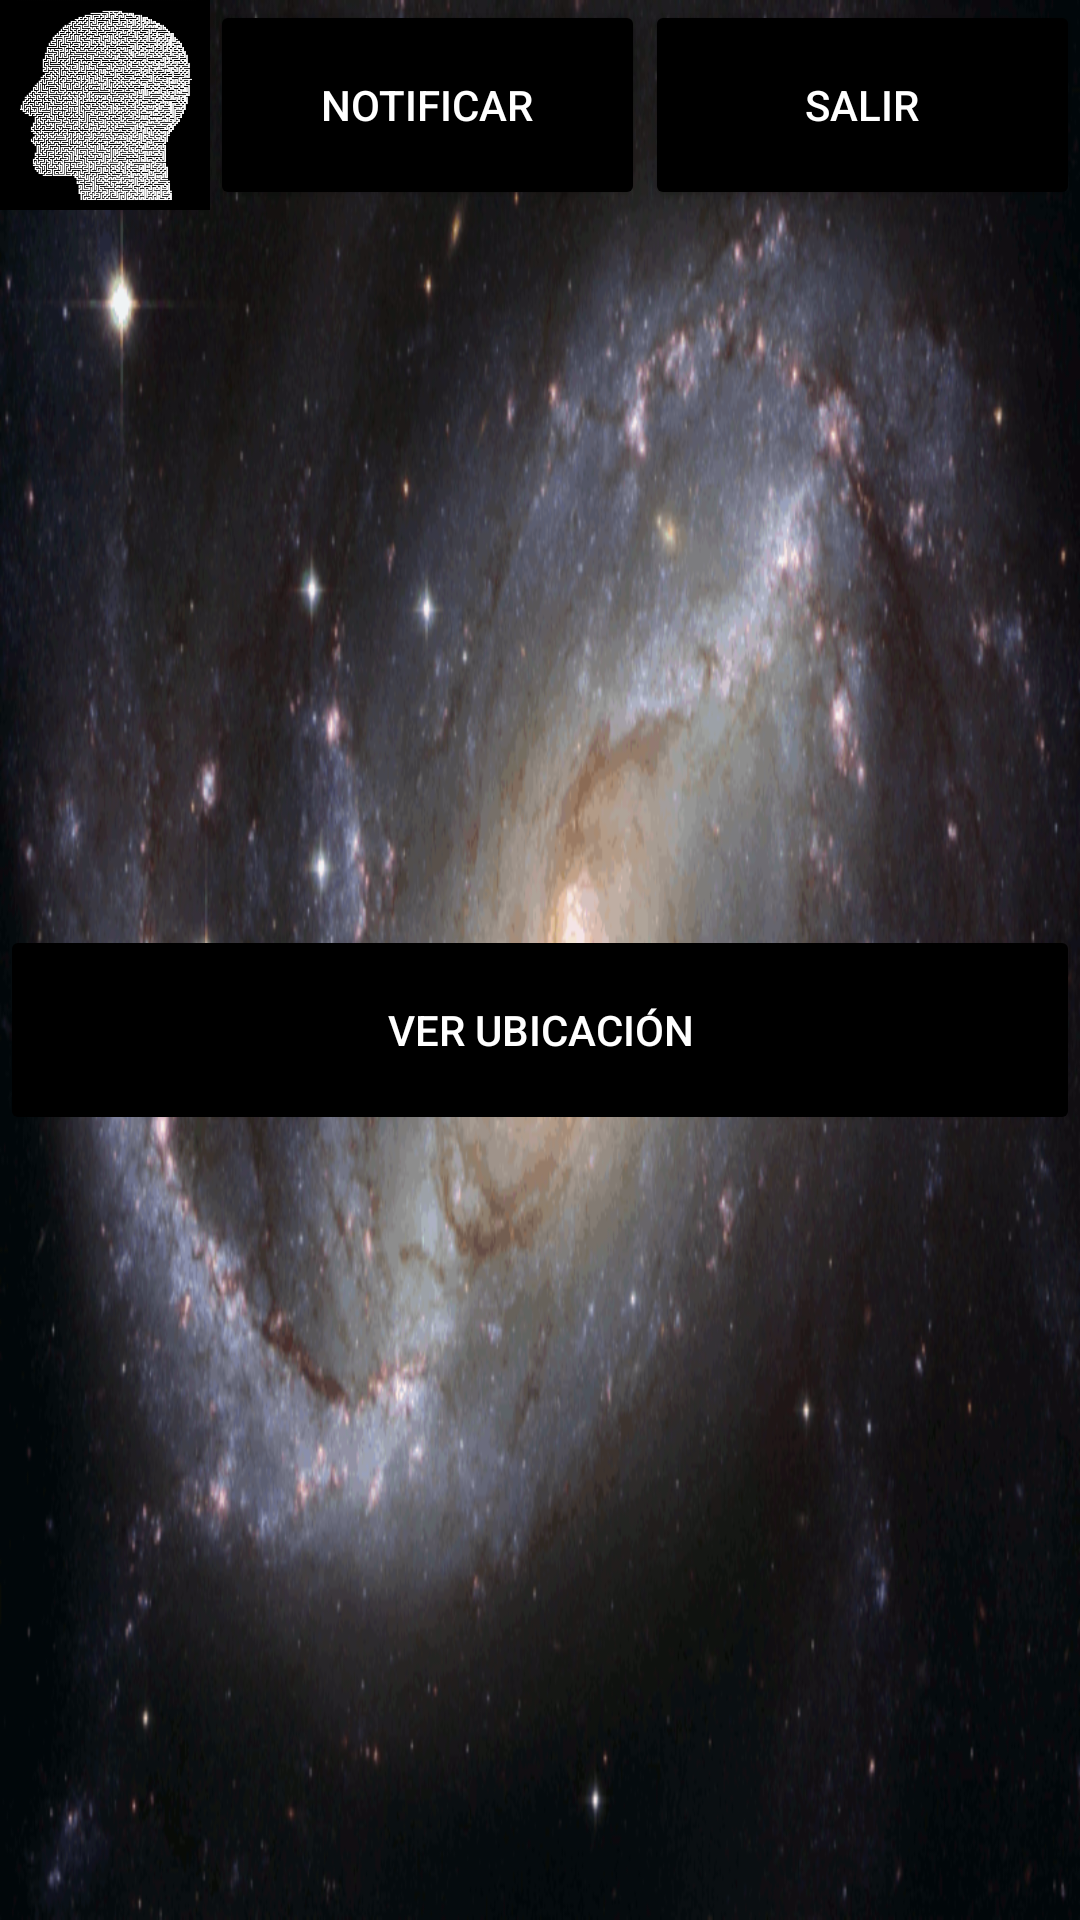

Point at icon controls on the screen. Image size 1080px x 1920px, points as (x,y).
user: (106,105)
